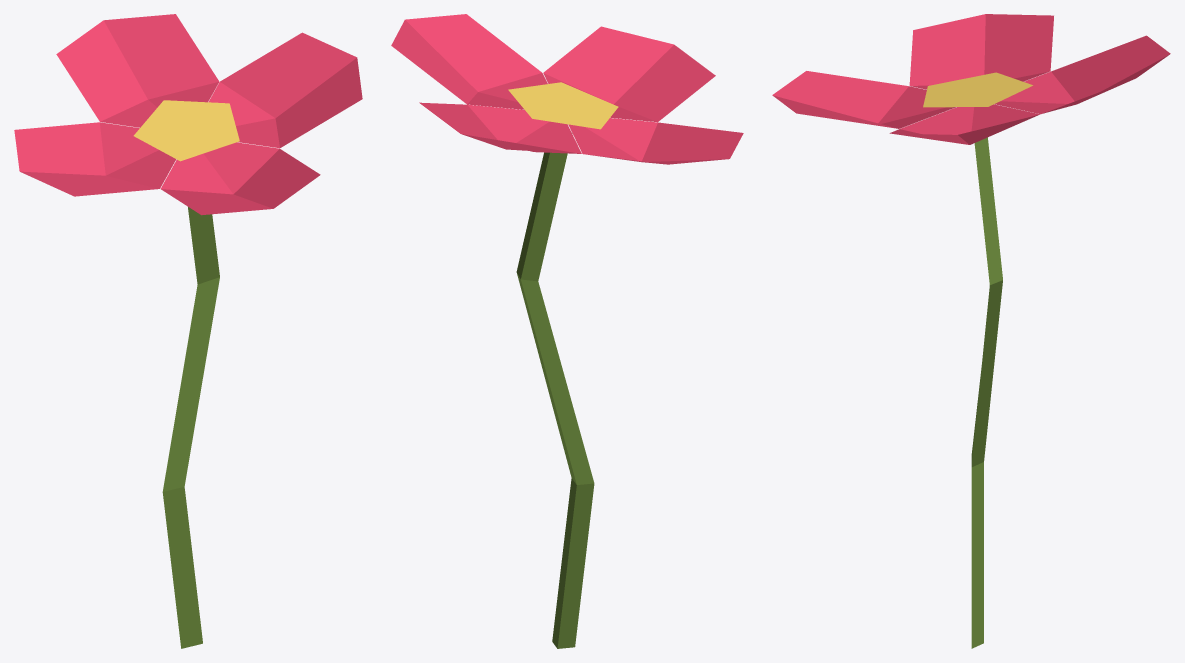
File: flower.fbx
3 renders of one model, left to right at view 1: azimuth 30°, elevation 25°; view 2: azimuth 150°, elevation 25°; view 3: azimuth 270°, elevation 25°, orthographic. The views are drawn at different scales.
Parts seen in each view (by area): view 1: Flower; view 2: Flower; view 3: Flower.
Boxes of the visible parts, left/top/right/bottom form: Flower: left=14, top=14, right=362, bottom=648; Flower: left=391, top=14, right=743, bottom=648; Flower: left=772, top=14, right=1170, bottom=648.
Size of the model in its own units: 19.78 by 32.65 by 19.78.
